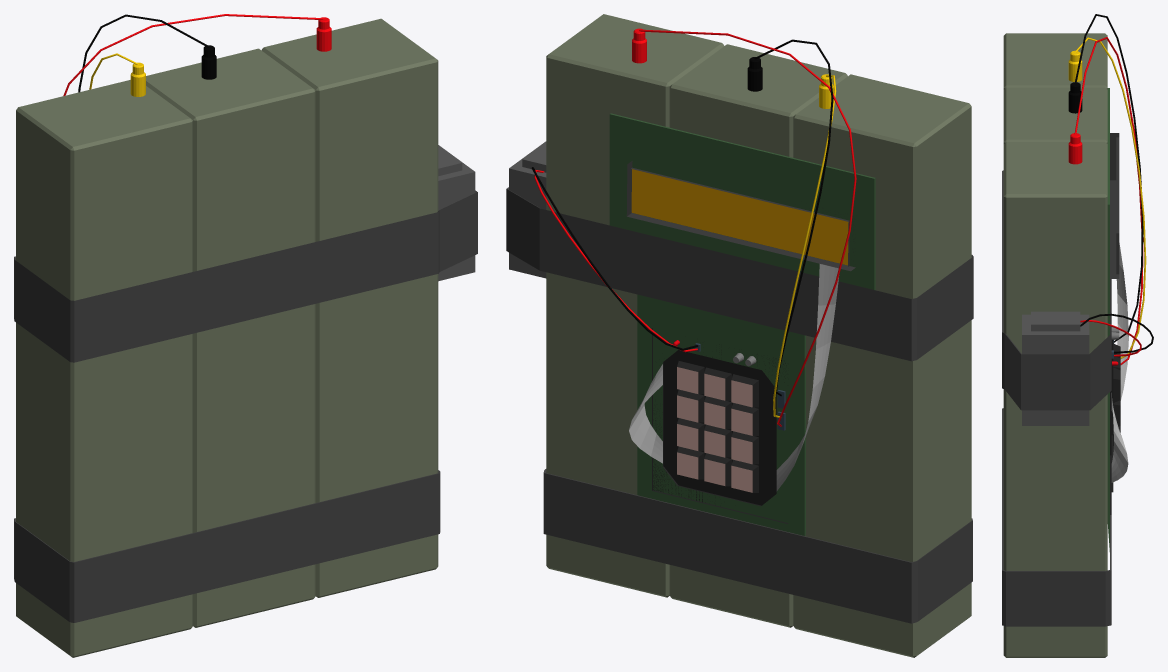
The picture shows the model from 3 angles, left to right: view 1: azimuth 30°, elevation 25°; view 2: azimuth 150°, elevation 25°; view 3: azimuth 270°, elevation 25°; orthographic projection. The views are drawn at different scales.
Parts seen in each view (by area): view 1: Плоскость.004; view 2: Плоскость.004; view 3: Плоскость.004.
Boxes of the visible parts, x1,y1,x2,y2 form: Плоскость.004: [14, 14, 477, 657]; Плоскость.004: [506, 14, 973, 657]; Плоскость.004: [1002, 14, 1153, 657].
Size of the model in its own units: 231 by 308 by 80.22.
